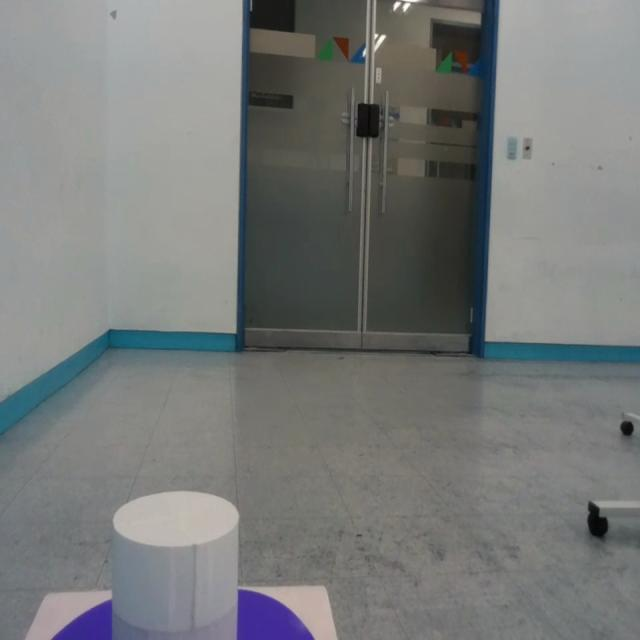cylinder: (109, 490, 240, 640)
